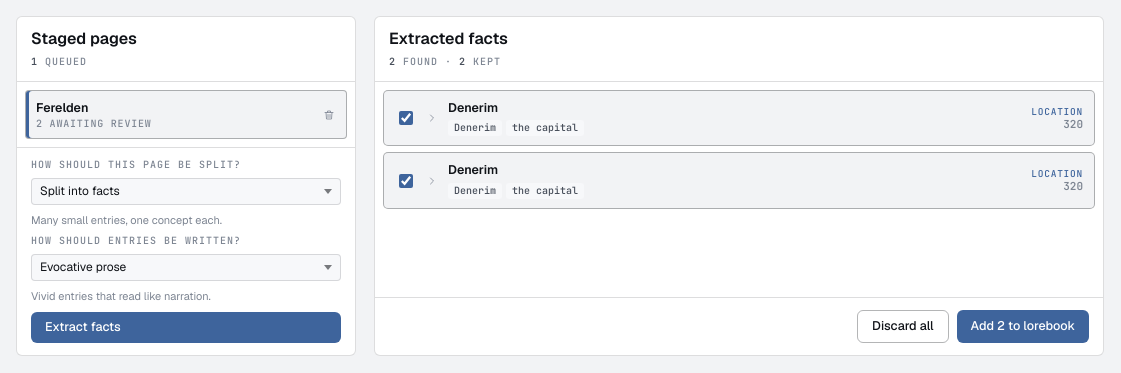
ExtractPanel › says how many candidates approving will discard
Click the 2nd checkbox named "Keep Denerim".
click(406, 181)  # box [399,174,413,188]
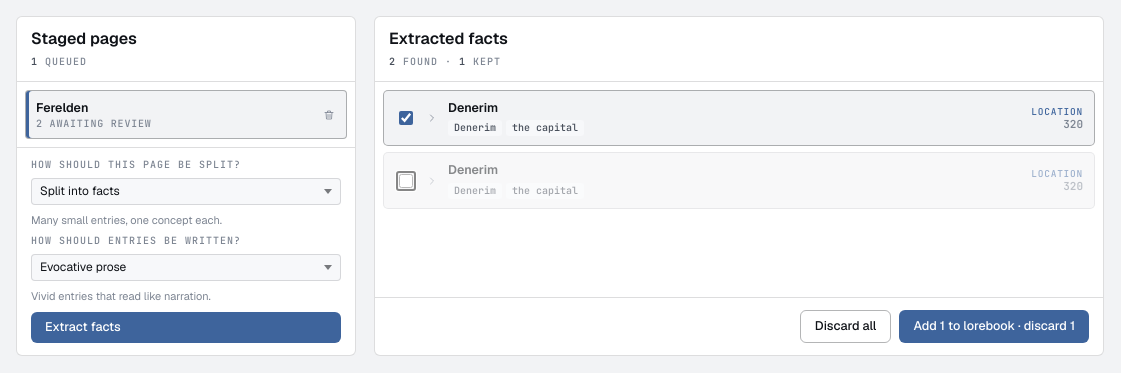
Now the button "Add 1 to lorebook · discard 1" is shown, box [899,310,1089,342]
